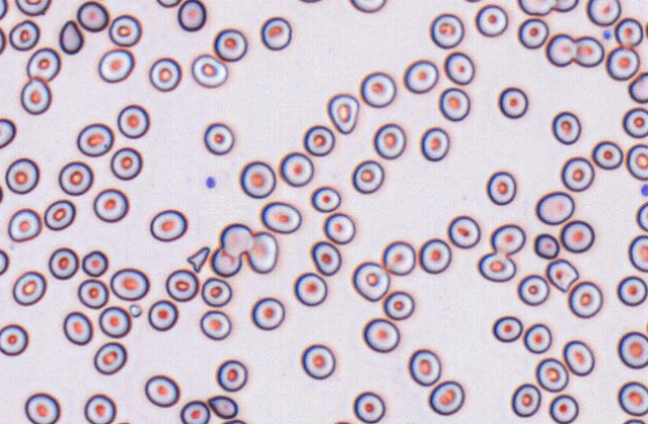PLT: (205, 175, 218, 190), (640, 181, 648, 198), (603, 28, 613, 40)
RBC: (351, 261, 390, 301), (239, 160, 276, 198), (245, 231, 278, 273), (326, 92, 359, 134), (362, 317, 400, 353), (567, 280, 603, 318), (535, 190, 574, 225), (109, 267, 149, 301), (260, 200, 301, 233), (359, 71, 396, 107), (76, 122, 114, 157), (278, 151, 314, 187), (427, 380, 464, 415), (97, 48, 134, 83), (4, 157, 39, 194), (191, 53, 228, 88), (407, 348, 441, 386), (149, 208, 187, 242), (58, 160, 93, 196), (92, 187, 128, 222), (300, 343, 335, 379), (429, 12, 464, 48), (372, 122, 406, 159), (12, 270, 46, 306), (560, 156, 594, 192), (477, 251, 516, 282), (20, 76, 51, 115), (219, 222, 254, 256), (26, 47, 60, 82), (293, 271, 327, 306), (250, 296, 285, 330), (7, 207, 41, 242), (605, 45, 639, 80), (381, 240, 415, 275), (403, 59, 438, 93), (418, 238, 451, 274), (562, 339, 594, 376), (93, 341, 127, 375), (165, 268, 199, 302), (560, 219, 594, 253), (474, 3, 508, 37), (144, 374, 179, 407), (535, 357, 568, 392), (351, 159, 384, 194), (148, 57, 181, 92), (617, 331, 647, 369), (447, 214, 480, 248), (116, 104, 149, 138), (213, 28, 247, 61), (490, 223, 525, 255), (24, 392, 60, 423), (98, 305, 131, 338), (352, 390, 385, 423), (108, 14, 141, 47), (110, 146, 142, 180), (443, 51, 475, 85), (438, 87, 470, 121), (260, 16, 292, 50), (62, 310, 93, 345), (510, 382, 541, 417), (310, 240, 341, 275), (485, 170, 516, 205), (76, 0, 109, 32), (215, 359, 247, 392), (322, 212, 355, 244), (545, 33, 576, 67), (617, 381, 647, 416), (419, 126, 449, 161), (8, 19, 40, 51), (517, 274, 549, 306), (517, 17, 549, 49), (303, 124, 335, 156), (83, 393, 116, 424), (203, 122, 234, 155), (551, 110, 581, 144), (147, 299, 178, 331), (199, 309, 231, 340), (43, 199, 75, 230), (573, 35, 604, 67), (77, 278, 108, 309), (616, 275, 647, 306), (210, 247, 242, 277), (200, 277, 232, 307), (48, 247, 78, 279), (382, 290, 414, 320), (591, 140, 623, 170), (498, 86, 528, 118), (522, 322, 552, 353), (0, 323, 28, 356), (586, 0, 621, 26), (177, 0, 206, 31), (548, 394, 578, 423), (614, 17, 643, 47), (491, 315, 522, 342), (310, 185, 341, 212), (622, 106, 647, 138), (626, 143, 647, 180), (81, 249, 108, 277), (179, 399, 210, 423), (628, 234, 647, 272), (533, 232, 559, 259), (627, 71, 647, 103), (14, 0, 51, 16), (517, 0, 555, 15), (0, 117, 16, 148), (348, 0, 386, 13), (636, 201, 647, 232), (553, 0, 579, 12), (0, 248, 9, 276), (155, 0, 181, 7), (0, 26, 6, 55), (219, 418, 247, 424), (0, 0, 7, 20), (621, 418, 645, 423), (330, 420, 353, 424), (644, 19, 648, 40), (296, 0, 324, 3), (0, 182, 3, 206), (111, 421, 135, 424), (462, 0, 483, 3), (645, 317, 648, 337), (0, 68, 2, 98)
Schistocyte: (547, 259, 579, 293), (59, 19, 85, 56), (207, 394, 238, 418), (187, 247, 210, 273)
